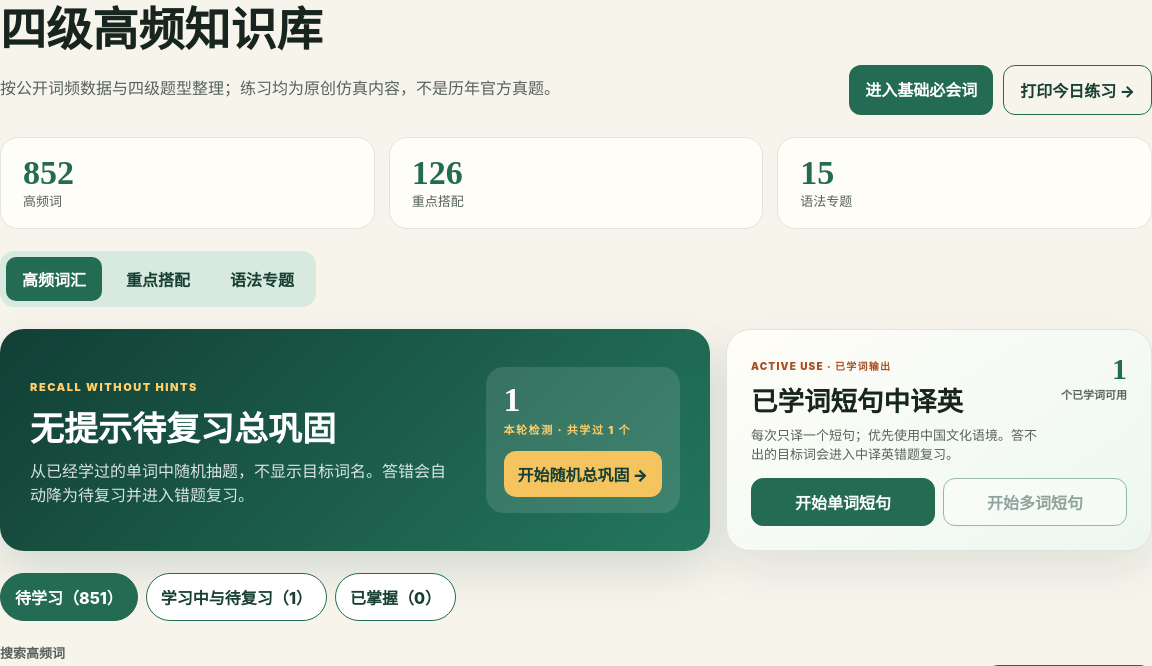
Test: KnowledgePage › offers one aggregate review without per-word hint buttons
Click the button with aria-label "开始待复习词总巩固" at {"x": 583, "y": 474}, box [504, 451, 662, 497]
(page scrolled)
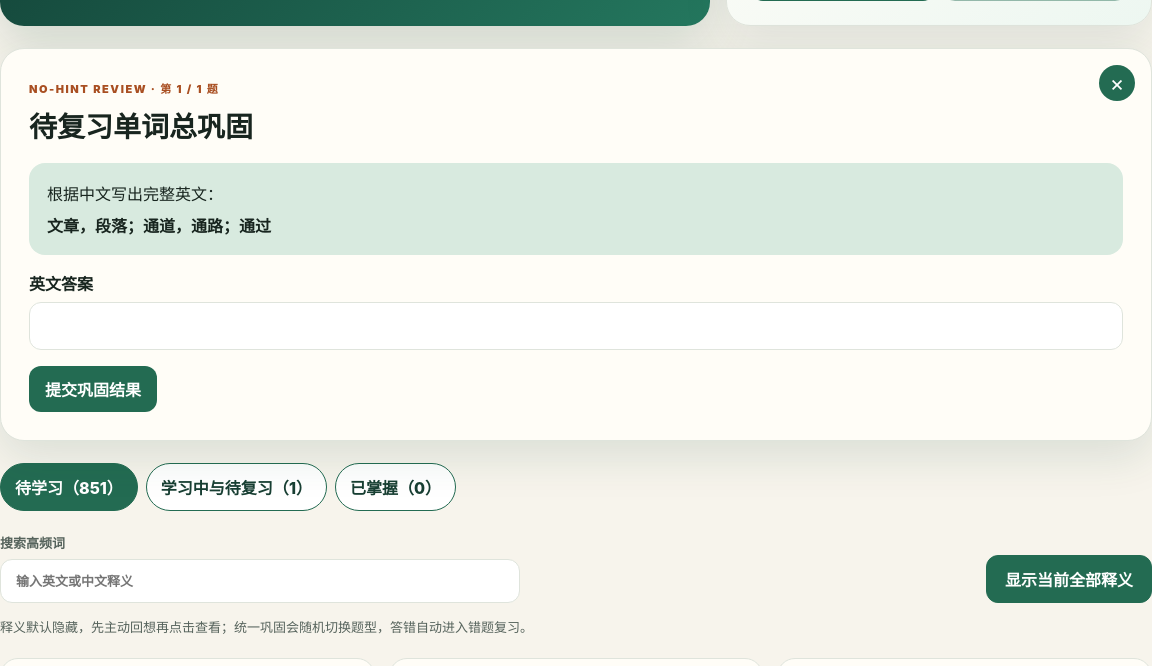
Expected: the element "待复习单词总巩固" is shown, [0, 48, 1151, 441]
Expected: the field labelled "英文答案" is shown, [29, 302, 1123, 350]
